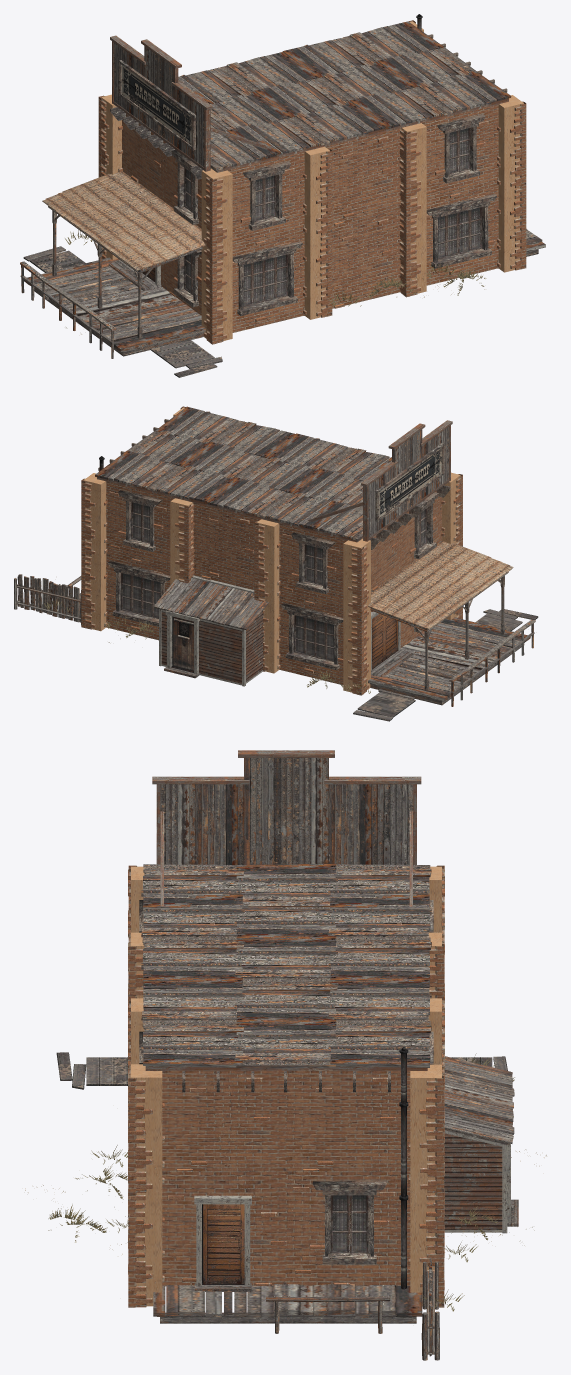
File: House_07_M2.gltf
3 views of the same model, one above another, from view 1: azimuth 30°, elevation 25°; view 2: azimuth 150°, elevation 25°; view 3: azimuth 270°, elevation 25° (orthographic). The views are drawn at different scales.
Parts seen in each view (by area): view 1: WallEdge_H3_T2 (×9), RoofExtension_W6_v1, Floor_6x6, Window_WW_v2 (×2), Window_W_v2 (×4), Wall_W3H3_T2 (1), Wall_W3H3_T2, SignBack_W6H3D3_v1, Wall_W3H3_T3 (1) (×6), Wall_W3H3_T3 (×5), Wall_W_W3H3_T2 (2), Wall_W_W3H3_T2 (3) (+24 smaller); view 2: Cabin_W4H3D1_v1, RoofExtension_W6_v1, Floor_6x6, WallEdge_H3_T2 (×7), Window_WW_v2 (×2), Wall_W3H3_T2 (6), Window_W_v2 (×3), SignBack_W6H3D3_v1, Wall_W3H3_T3 (×4), Wall_W_W3H3_T2 (5), Wall_W_W3H3_T2 (4), Wall_W3H3_T3 (1) (×4) (+28 smaller); view 3: SignBack_W6H3D3_v1, Wall_W3H3_T2 (5), Wall_W3H3_T2 (4), Cabin_W4H3D1_v1, Wall_D_W3H3_T2, WallEdge_H3_T2 (×6), Wall_W_W3H3_T2 (1), Floor_6x6 (1), Roof_W3D3_v1 (2), Roof_W3D3_v1 (1), Roof_W3D3_v1, Window_W_v2 (+19 smaller).
Part boxes in pixels (left/top/right/bottom): WallEdge_H3_T2 (×9): left=98, top=95, right=526, bottom=344; RoofExtension_W6_v1: left=42, top=171, right=205, bottom=273; Floor_6x6: left=24, top=257, right=205, bottom=356; Window_WW_v2 (×2): left=232, top=193, right=497, bottom=315; Window_W_v2 (×4): left=171, top=114, right=485, bottom=307; Wall_W3H3_T2 (1): left=325, top=128, right=401, bottom=226; Wall_W3H3_T2: left=332, top=210, right=401, bottom=308; SignBack_W6H3D3_v1: left=110, top=35, right=272, bottom=171; Wall_W3H3_T3 (1) (×6): left=201, top=103, right=523, bottom=338; Wall_W3H3_T3 (×5): left=101, top=97, right=426, bottom=340; Wall_W_W3H3_T2 (2): left=228, top=152, right=304, bottom=250; Wall_W_W3H3_T2 (3): left=422, top=104, right=498, bottom=203; Cabin_W4H3D1_v1: left=153, top=575, right=269, bottom=686; RoofExtension_W6_v1: left=368, top=541, right=513, bottom=632; Floor_6x6: left=368, top=617, right=530, bottom=705; WallEdge_H3_T2 (×7): left=81, top=474, right=462, bottom=695; Window_WW_v2 (×2): left=108, top=561, right=343, bottom=670; Wall_W3H3_T2 (6): left=193, top=503, right=260, bottom=589; Window_W_v2 (×3): left=118, top=490, right=438, bottom=594; SignBack_W6H3D3_v1: left=308, top=420, right=452, bottom=541; Wall_W3H3_T3 (×4): left=83, top=480, right=274, bottom=673; Wall_W_W3H3_T2 (5): left=106, top=482, right=174, bottom=569; Wall_W_W3H3_T2 (4): left=279, top=524, right=347, bottom=611; Wall_W3H3_T3 (1) (×4): left=170, top=475, right=460, bottom=692; SignBack_W6H3D3_v1: left=152, top=750, right=421, bottom=906; Wall_W3H3_T2 (5): left=160, top=1070, right=286, bottom=1172; Wall_W3H3_T2 (4): left=286, top=1070, right=412, bottom=1172; Cabin_W4H3D1_v1: left=444, top=1056, right=514, bottom=1233; Wall_D_W3H3_T2: left=162, top=1171, right=286, bottom=1286; WallEdge_H3_T2 (×6): left=128, top=942, right=444, bottom=1307; Wall_W_W3H3_T2 (1): left=286, top=1171, right=410, bottom=1285; Floor_6x6 (1): left=153, top=1284, right=422, bottom=1323; Roof_W3D3_v1 (2): left=141, top=1020, right=244, bottom=1070; Roof_W3D3_v1 (1): left=235, top=1020, right=337, bottom=1070; Roof_W3D3_v1: left=328, top=1020, right=431, bottom=1070; Window_W_v2: left=312, top=1181, right=386, bottom=1264.
Bounding box in the file's own units: 19.6 × 9.13 × 12.9.
2 materials, 2 textured.
